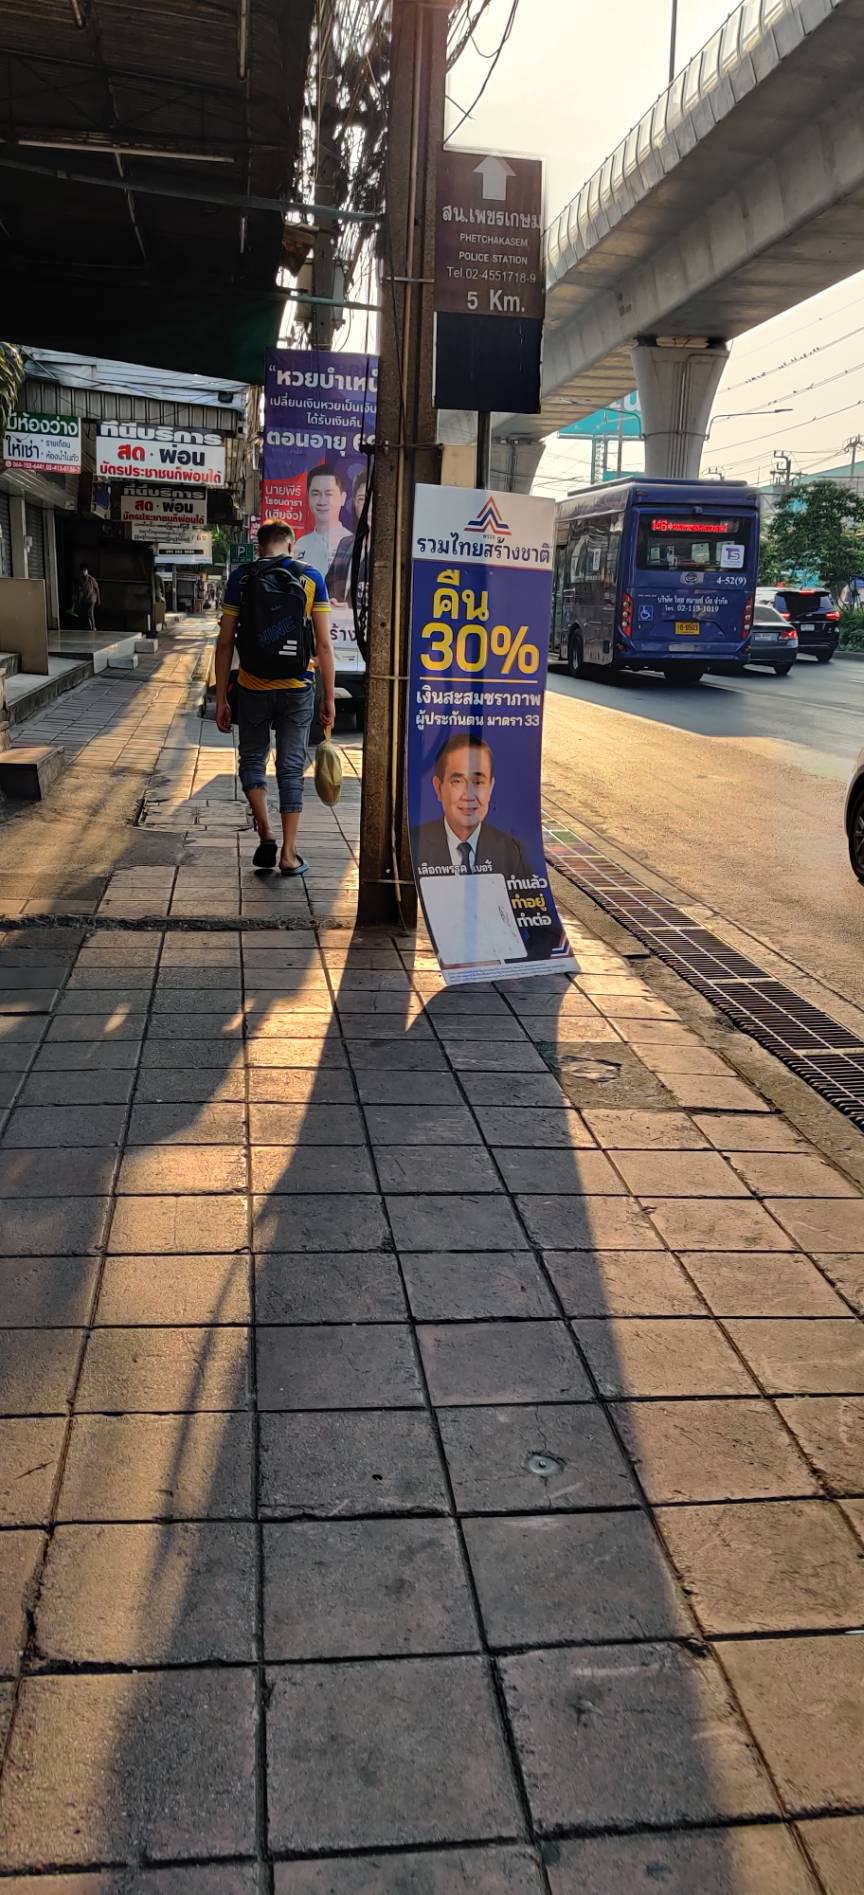Banner: (405, 502, 601, 985), (236, 335, 382, 685)
